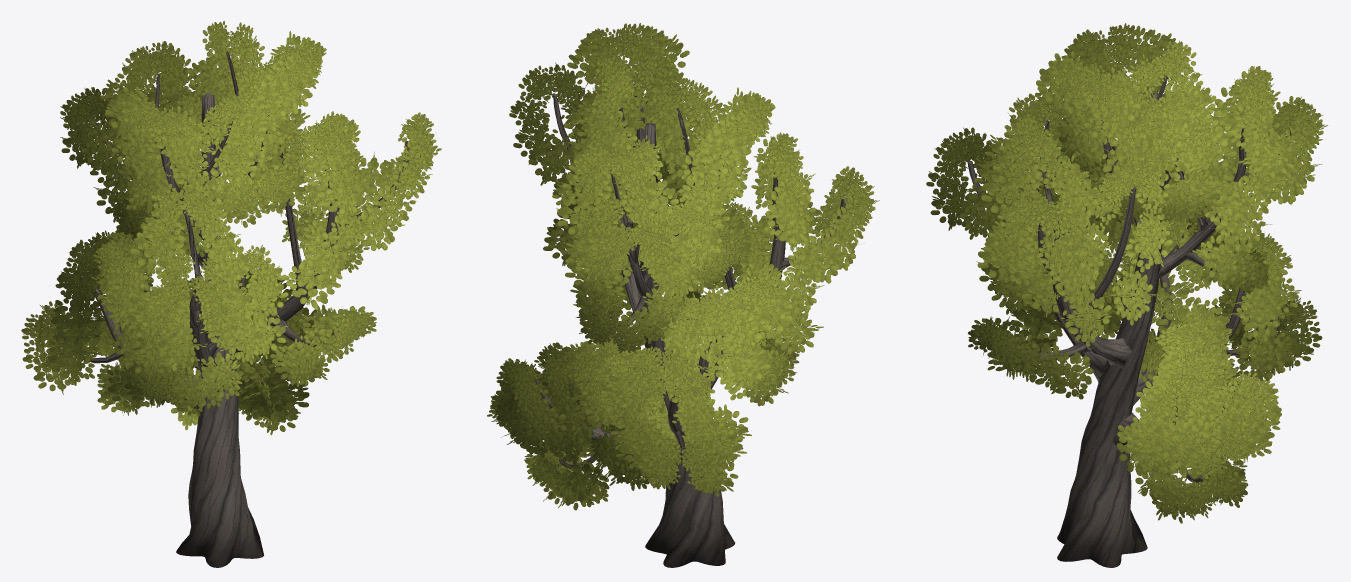
File: Willow_2.glb
The picture shows the model from 3 angles, left to right: view 1: azimuth 30°, elevation 25°; view 2: azimuth 150°, elevation 25°; view 3: azimuth 270°, elevation 25°; orthographic projection. The views are drawn at different scales.
Visible parts, largest first — view 1: TwistedTree_3; view 2: TwistedTree_3; view 3: TwistedTree_3.
Part boxes in pixels (x1=…): TwistedTree_3: x1=21, y1=21, x2=441, y2=567; TwistedTree_3: x1=487, y1=23, x2=879, y2=567; TwistedTree_3: x1=926, y1=23, x2=1327, y2=567.
Size of the model in its own units: 11.36 by 16.07 by 11.51.
2 materials, 2 textured.
